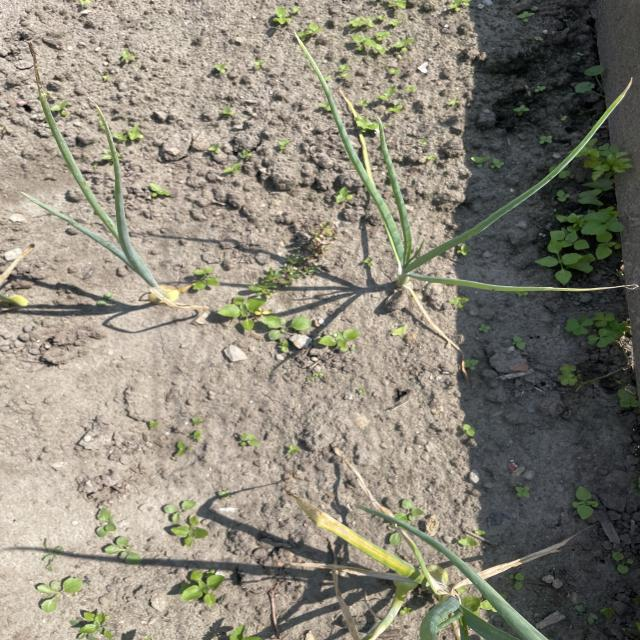Onion: (345, 531, 548, 640), (361, 180, 508, 308), (78, 207, 208, 322)
weed: (541, 199, 626, 280), (558, 138, 628, 200), (339, 7, 422, 58), (561, 308, 638, 358), (171, 563, 237, 607), (93, 510, 145, 565), (30, 569, 89, 613), (257, 311, 320, 345), (166, 500, 209, 548), (271, 4, 327, 40), (221, 295, 267, 326), (319, 326, 365, 353), (106, 125, 150, 150), (569, 487, 602, 519), (555, 357, 583, 391), (609, 551, 638, 575), (118, 48, 147, 70)
